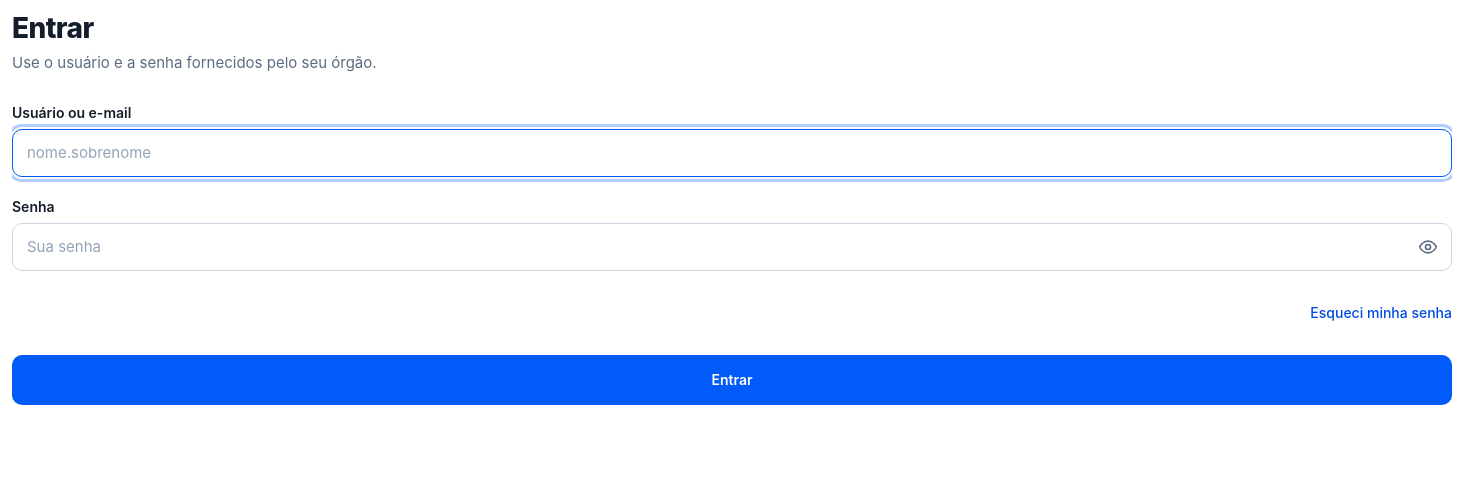
Test: SCR-001 — formulário de entrada nativo (DEC-187) › [Falha] resposta 0: mensagem própria, sem navegar
The image size is (1464, 504).
Step 1. Type "requisitante.a" into the field labelled "Usuário ou e-mail" → (732, 153), box [12,129,1452,177]
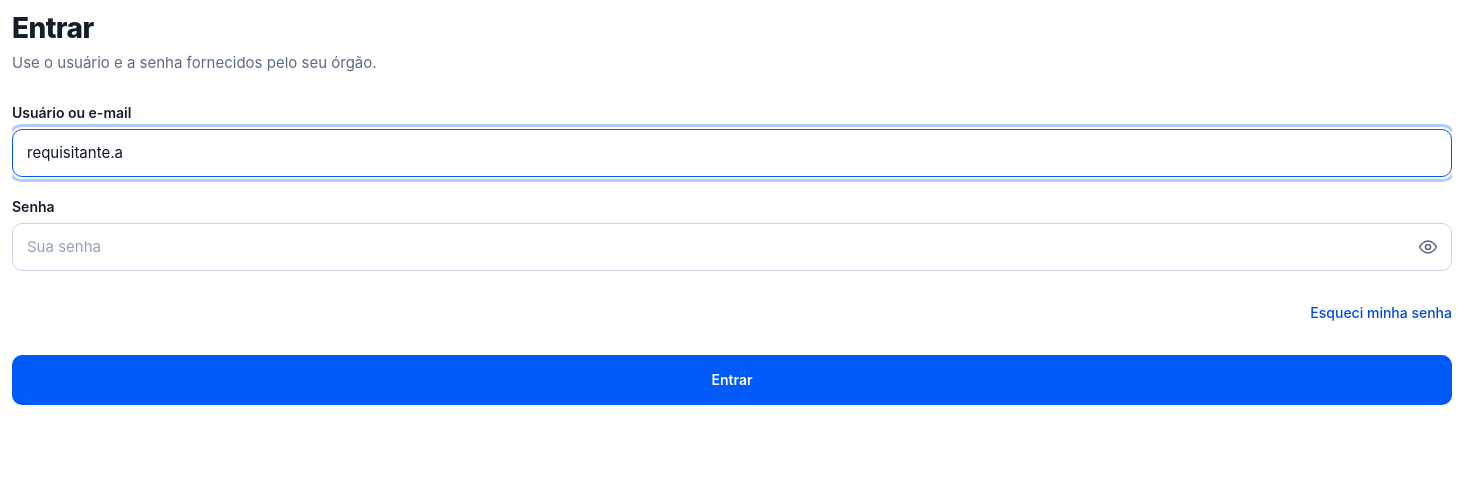
Step 2. Type "segredo" into the password field labelled "Senha" → (732, 247), box [12,223,1452,271]
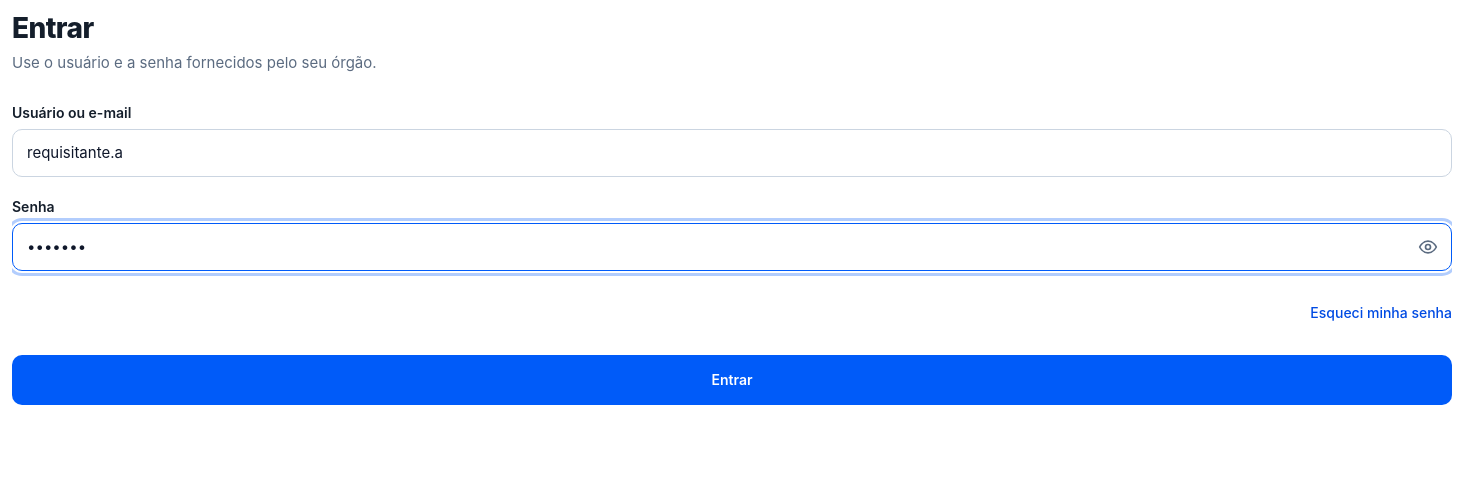
Step 3. Click the button "Entrar" → (732, 380), box [12,355,1452,405]
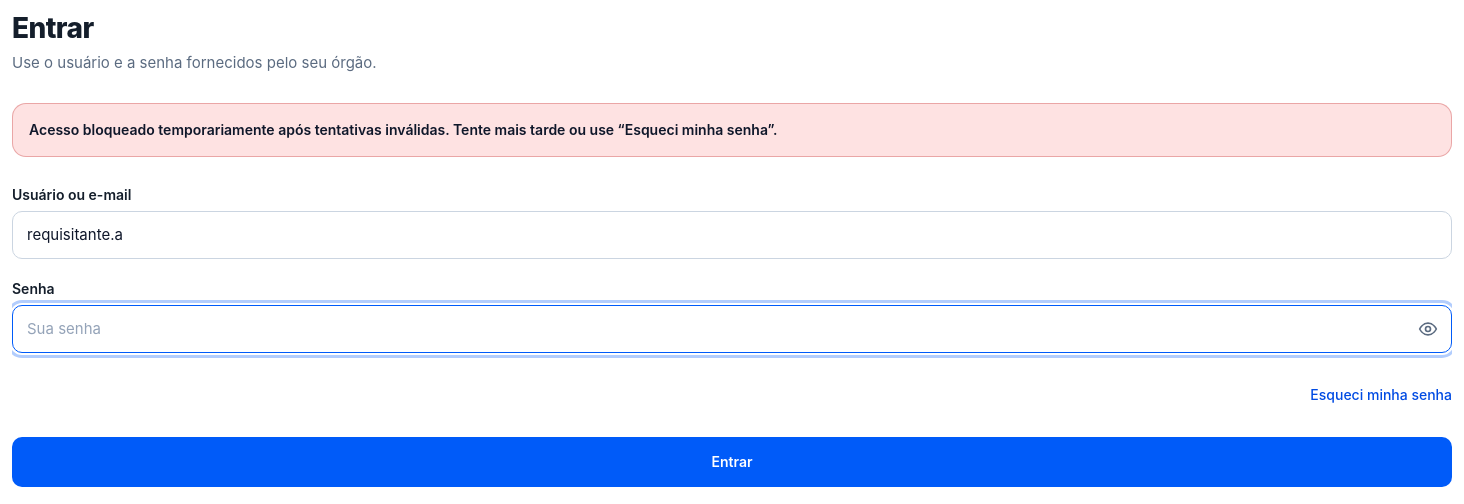
Expected: the button "Entrar" is enabled, [12,437,1452,487]
Expected: the message shows "Acesso bloqueado temporariamente após tentativas inválidas. Tente mais tarde ou use “Esqueci minha senha”.", [29,121,777,138]
